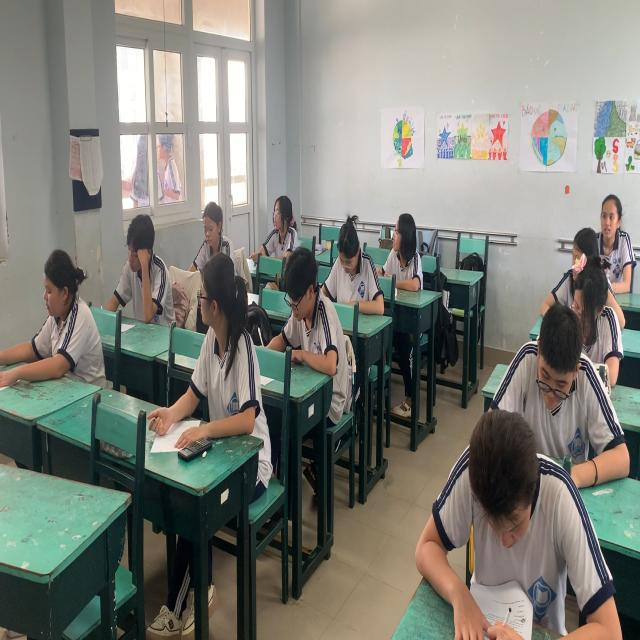cheating: (185, 263, 269, 457), (392, 195, 426, 292)
not_cheating: (442, 399, 598, 631), (512, 298, 597, 452), (270, 234, 339, 387), (27, 240, 98, 379), (560, 254, 624, 369), (114, 202, 170, 325), (327, 205, 379, 315), (594, 181, 640, 293), (259, 173, 297, 265), (194, 182, 230, 262)
